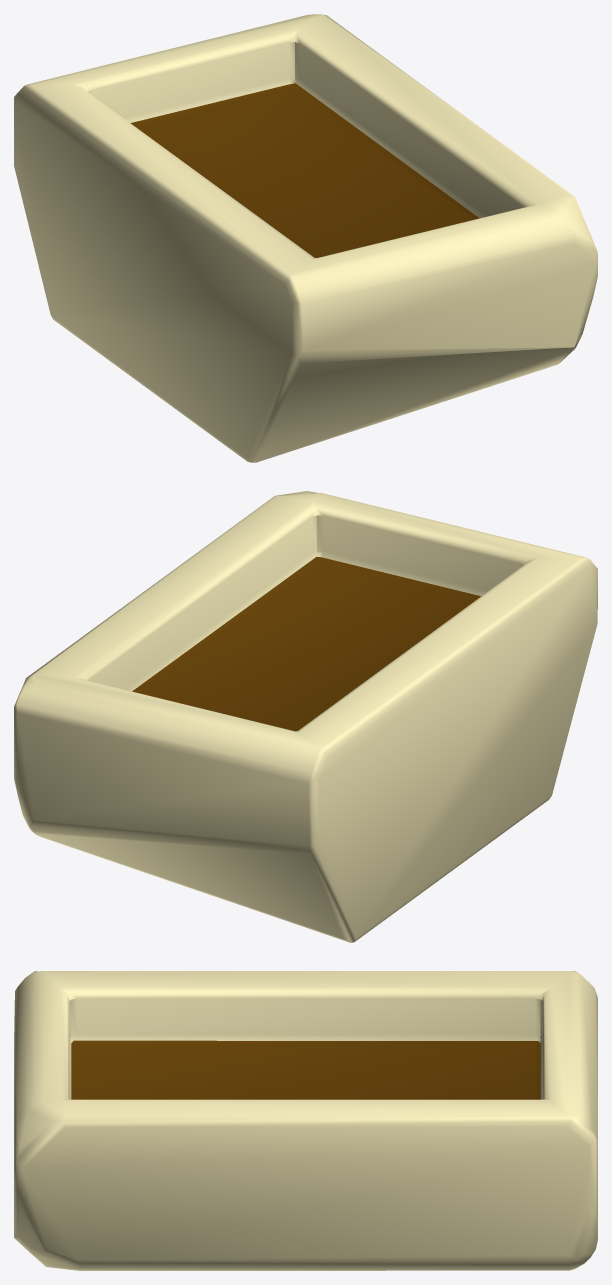
Rendered from Module_Window_Planter_Short_02_LOD01.fbx.
3 views of the same model, one above another, from view 1: azimuth 30°, elevation 25°; view 2: azimuth 150°, elevation 25°; view 3: azimuth 270°, elevation 25° (orthographic). The views are drawn at different scales.
Visible parts, largest first — view 1: Module_Window_Planter_Short_02_LOD01_Geometry; view 2: Module_Window_Planter_Short_02_LOD01_Geometry; view 3: Module_Window_Planter_Short_02_LOD01_Geometry.
Part boxes in pixels (bbox=[...]): Module_Window_Planter_Short_02_LOD01_Geometry: bbox=[14, 14, 597, 462]; Module_Window_Planter_Short_02_LOD01_Geometry: bbox=[14, 491, 597, 942]; Module_Window_Planter_Short_02_LOD01_Geometry: bbox=[14, 971, 597, 1270].
Size of the model in its own units: 0.656 by 0.4408 by 1.06.
